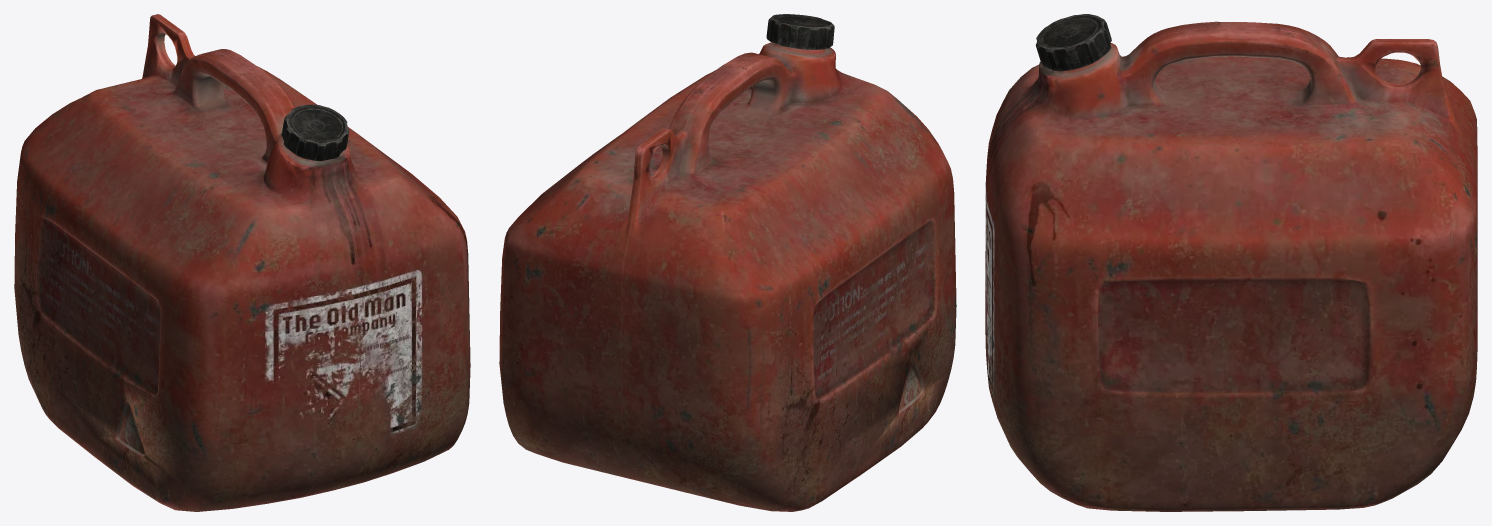
Rendered from obj-bidon.c74c31.glb.
3 renders of one model, left to right at view 1: azimuth 30°, elevation 25°; view 2: azimuth 150°, elevation 25°; view 3: azimuth 270°, elevation 25°, orthographic. The views are drawn at different scales.
Visible parts, largest first — view 1: plastic_jerrycan; view 2: plastic_jerrycan; view 3: plastic_jerrycan.
Part boxes in pixels (x1,y1,x2,y2): plastic_jerrycan: (14, 14, 470, 511); plastic_jerrycan: (499, 14, 956, 511); plastic_jerrycan: (985, 14, 1477, 511).
Bounding box in the file's own units: 0.268 × 0.3184 × 0.3408.
Materials: 1 (1 with a texture image).
